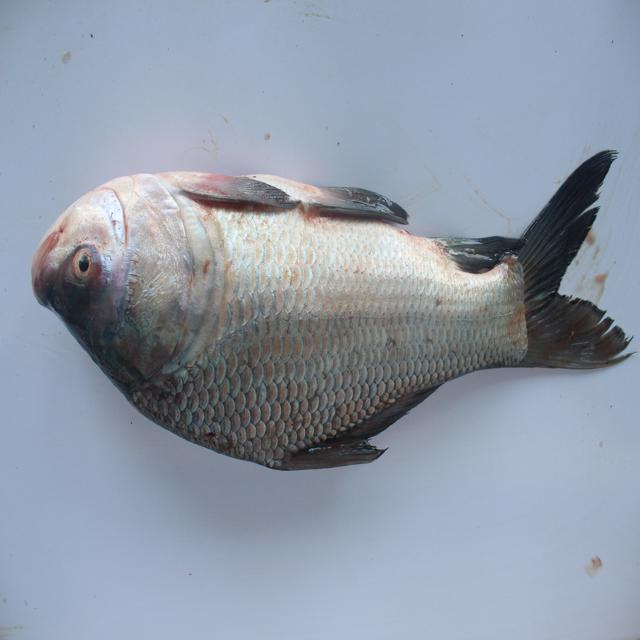Catla: (25, 151, 632, 468)
